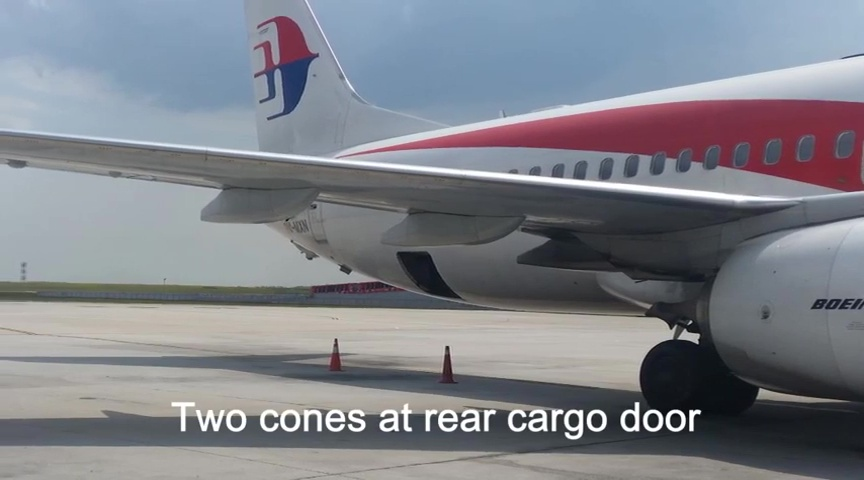safety_cone: (325, 338, 346, 373), (439, 345, 457, 385)
